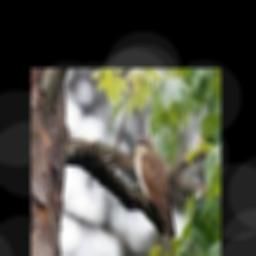Cuckoo: (131, 136, 178, 256)
